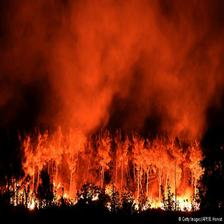fire: (11, 121, 205, 214)
